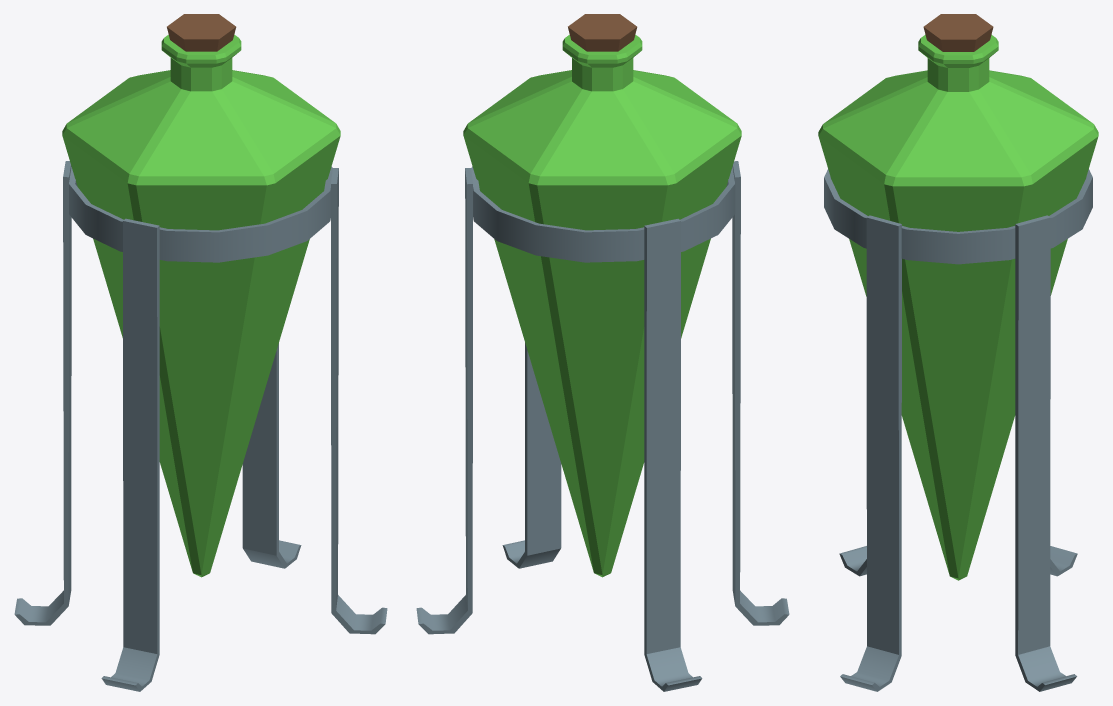
The model's file is Potion_05_Green.fbx.
3 renders of one model, left to right at view 1: azimuth 30°, elevation 25°; view 2: azimuth 150°, elevation 25°; view 3: azimuth 270°, elevation 25°, orthographic.
Visible parts, largest first — view 1: Cone.015, Cube.033, Cylinder.042, Cube.034, Cube.035, Cube.032, Cylinder.043, Cylinder.044; view 2: Cone.015, Cube.035, Cylinder.042, Cube.032, Cube.033, Cube.034, Cylinder.043, Cylinder.044; view 3: Cone.015, Cube.034, Cube.032, Cylinder.042, Cylinder.043, Cylinder.044, Cube.035, Cube.033.
Boxes of the visible parts, left/top/right/bottom form: Cone.015: left=62, top=70, right=340, bottom=577; Cube.033: left=101, top=218, right=159, bottom=691; Cylinder.042: left=69, top=166, right=332, bottom=262; Cube.034: left=242, top=343, right=301, bottom=568; Cube.035: left=14, top=161, right=71, bottom=625; Cube.032: left=331, top=168, right=387, bottom=634; Cylinder.043: left=161, top=34, right=241, bottom=91; Cylinder.044: left=167, top=14, right=236, bottom=51; Cone.015: left=463, top=70, right=741, bottom=577; Cube.035: left=644, top=218, right=702, bottom=691; Cylinder.042: left=471, top=166, right=735, bottom=262; Cube.032: left=502, top=343, right=561, bottom=568; Cube.033: left=732, top=161, right=789, bottom=625; Cube.034: left=416, top=168, right=472, bottom=634; Cylinder.043: left=562, top=34, right=642, bottom=91; Cylinder.044: left=568, top=14, right=637, bottom=51; Cone.015: left=818, top=70, right=1098, bottom=580; Cube.034: left=1015, top=215, right=1076, bottom=691; Cube.032: left=840, top=215, right=901, bottom=691; Cylinder.042: left=824, top=169, right=1092, bottom=264; Cylinder.043: left=918, top=34, right=998, bottom=91; Cylinder.044: left=923, top=14, right=993, bottom=51; Cube.035: left=1050, top=546, right=1077, bottom=576; Cube.033: left=839, top=546, right=866, bottom=576.
Size of the model in its own units: 19.94 by 39.59 by 16.79.
